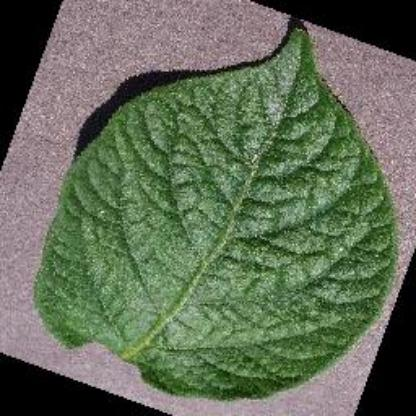Healthy-plant: (29, 27, 395, 406)
